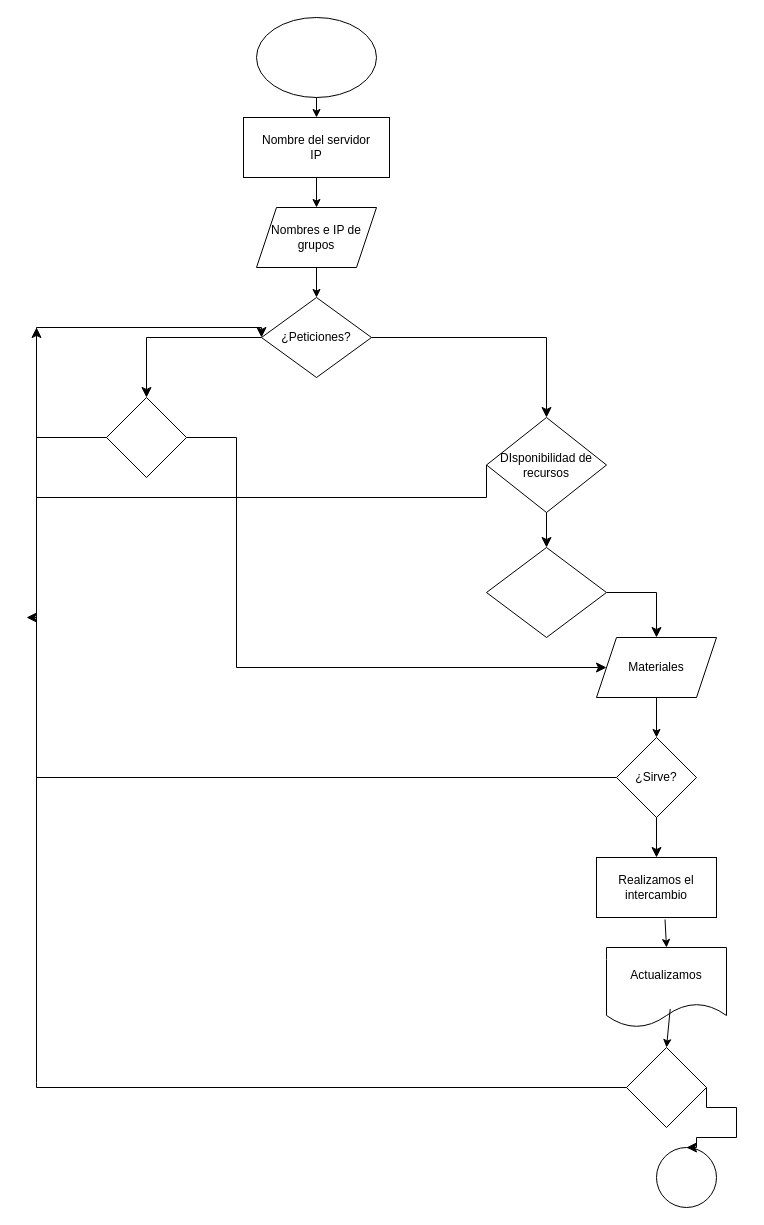
Image size: 764x1225. Some labels were removed from this diagram. The shapes that lost their labels are listed below. From the top down, each one's centre as x and y in pixels, then its label:
At [316,57]: "Servidor".
At [146,437]: "Solcitamos".
At [546,592]: "Solicitamos intercambio".
At [666,1087]: "Completo".
